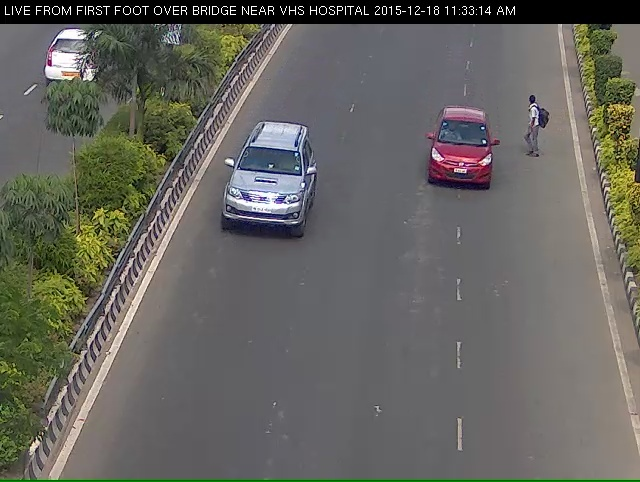Car: (215, 128, 304, 274), (424, 117, 499, 210)
Person: (514, 87, 554, 164)
